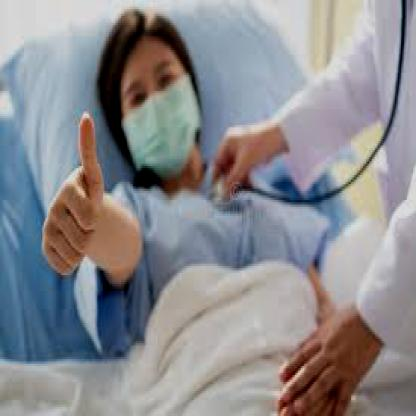Thumbs up: (32, 97, 116, 278)
